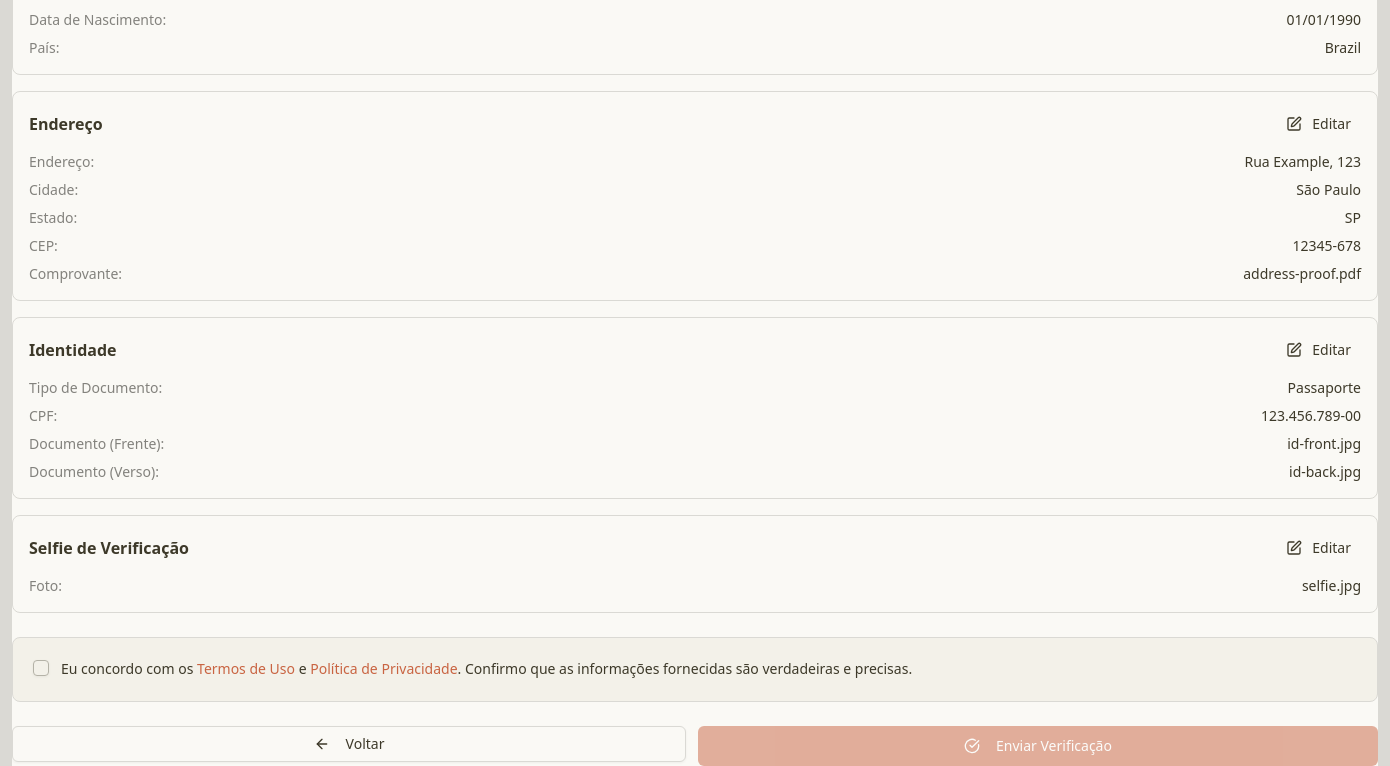
Scenario: ReviewStep › should enable submit button when terms are accepted
The width and height of the screenshot is (1390, 766).
(page scrolled)
What coordinates should you click on to do the following:
click the checkbox named "eu concordo"
I would click on:
 (41, 668)
Its box is 33,660 -> 49,676.
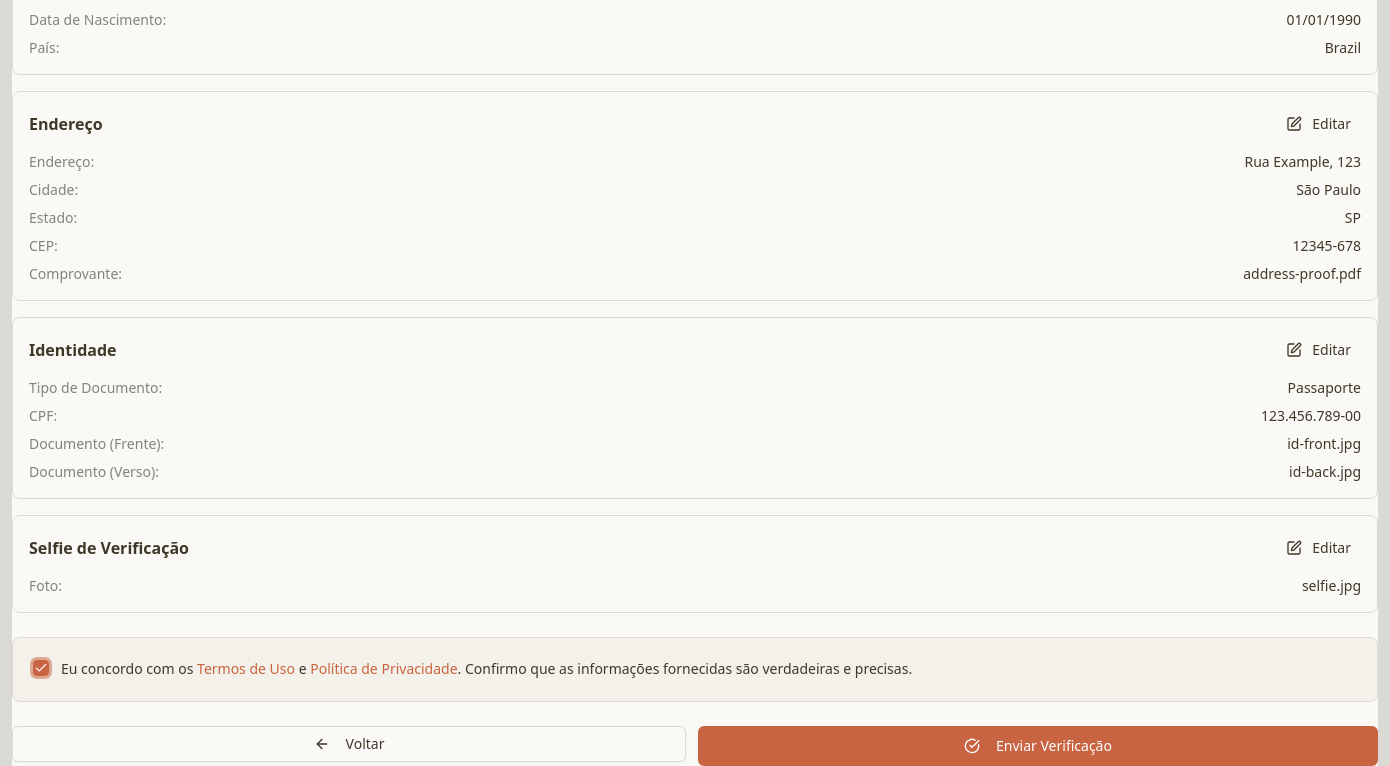
Result: the button "Enviar Verificação" is enabled at 698,726 -> 1378,765
